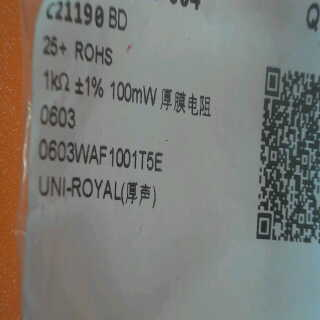1kR: (38, 69, 71, 97)
